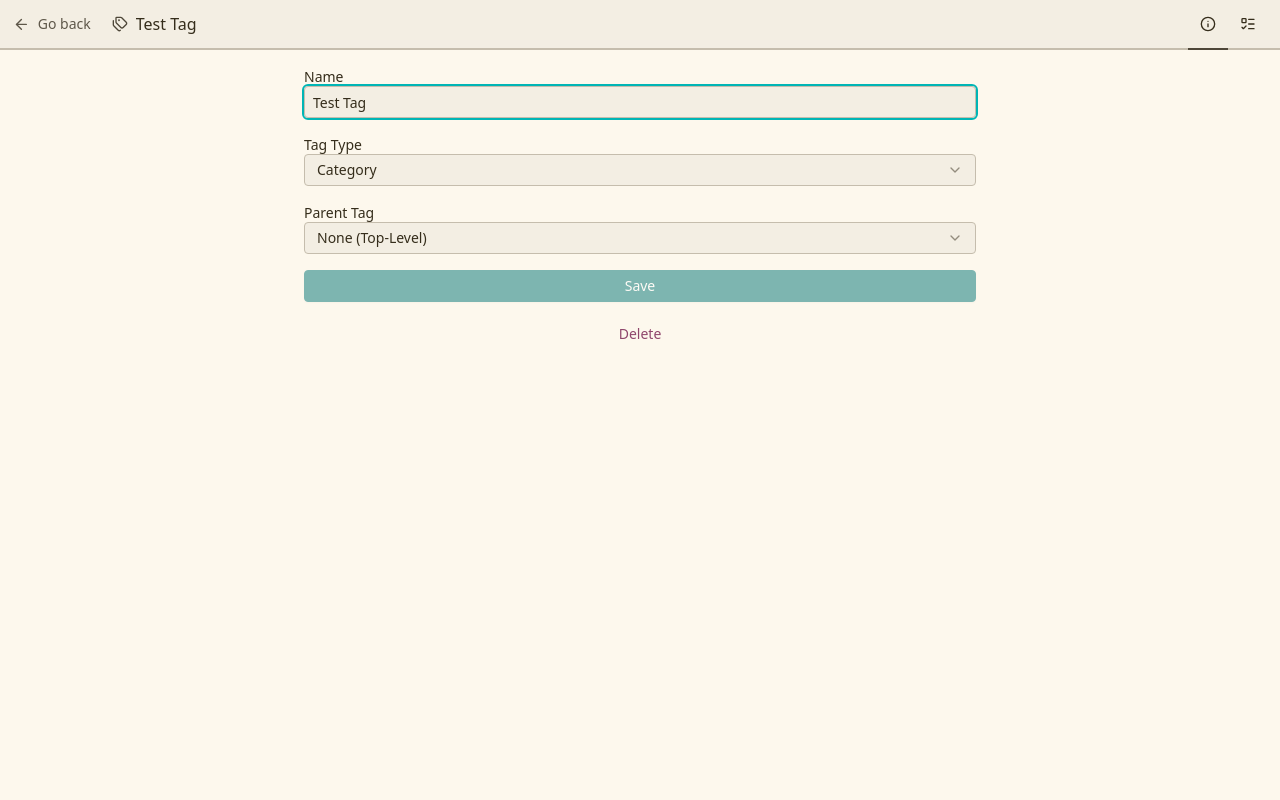
Tag Detail - Info Tab › user can cancel discard and keep changes
The image size is (1280, 800).
Replace the text in the field labelled "Name" with "Changed Name" at coordinates (640, 102), box [304,86,976,118]
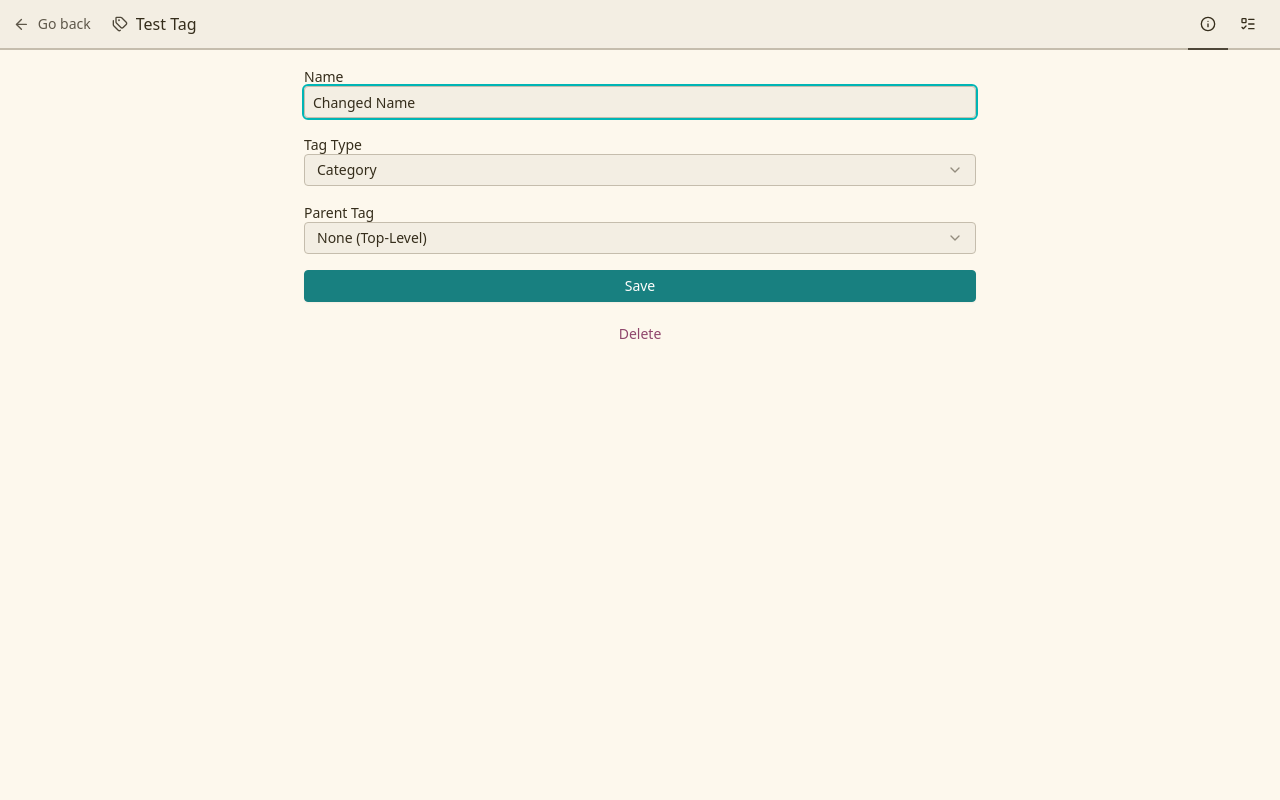
Click the link named "Tag items tab" at coordinates (1248, 25), box [1228,0,1268,50]
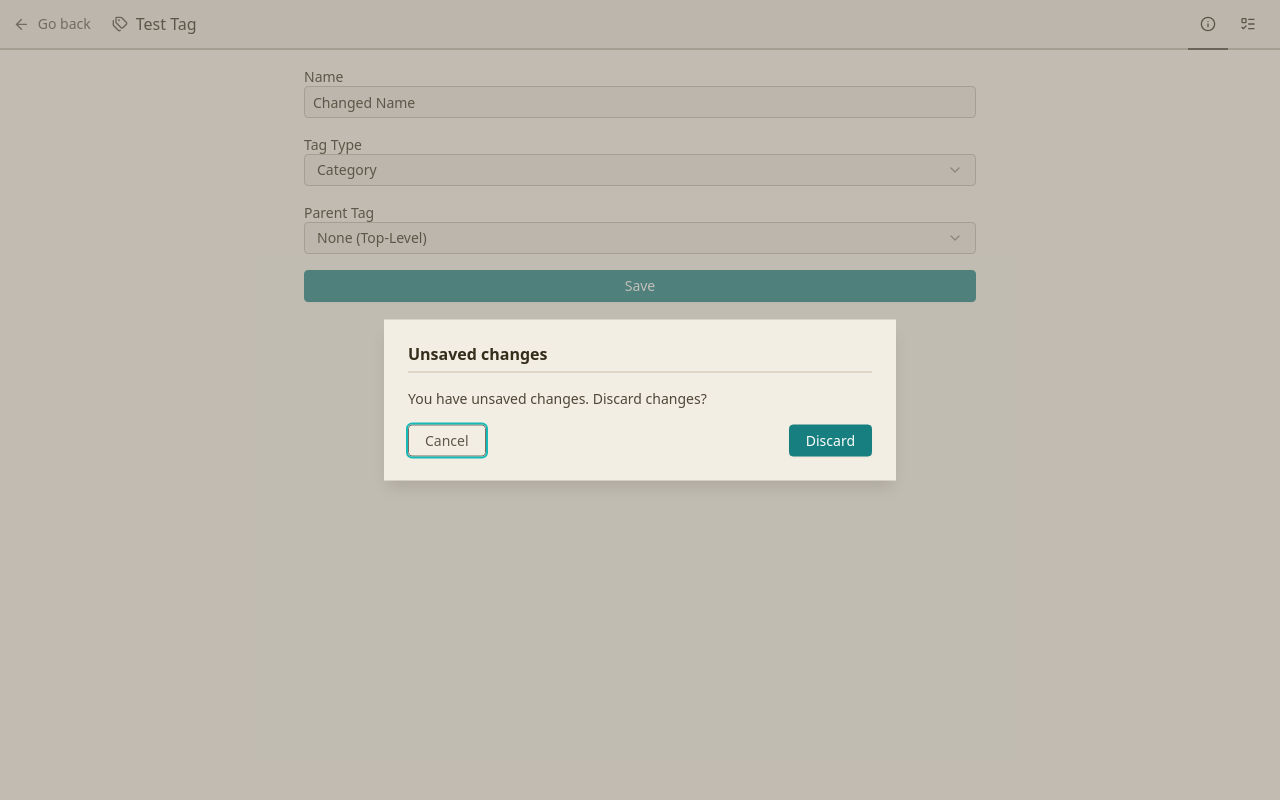
Check: the heading "Unsaved changes" is shown, box [408,342,548,364]
// And clicks Cancel
Click the button "Cancel" at coordinates (447, 440), box [408,424,486,456]
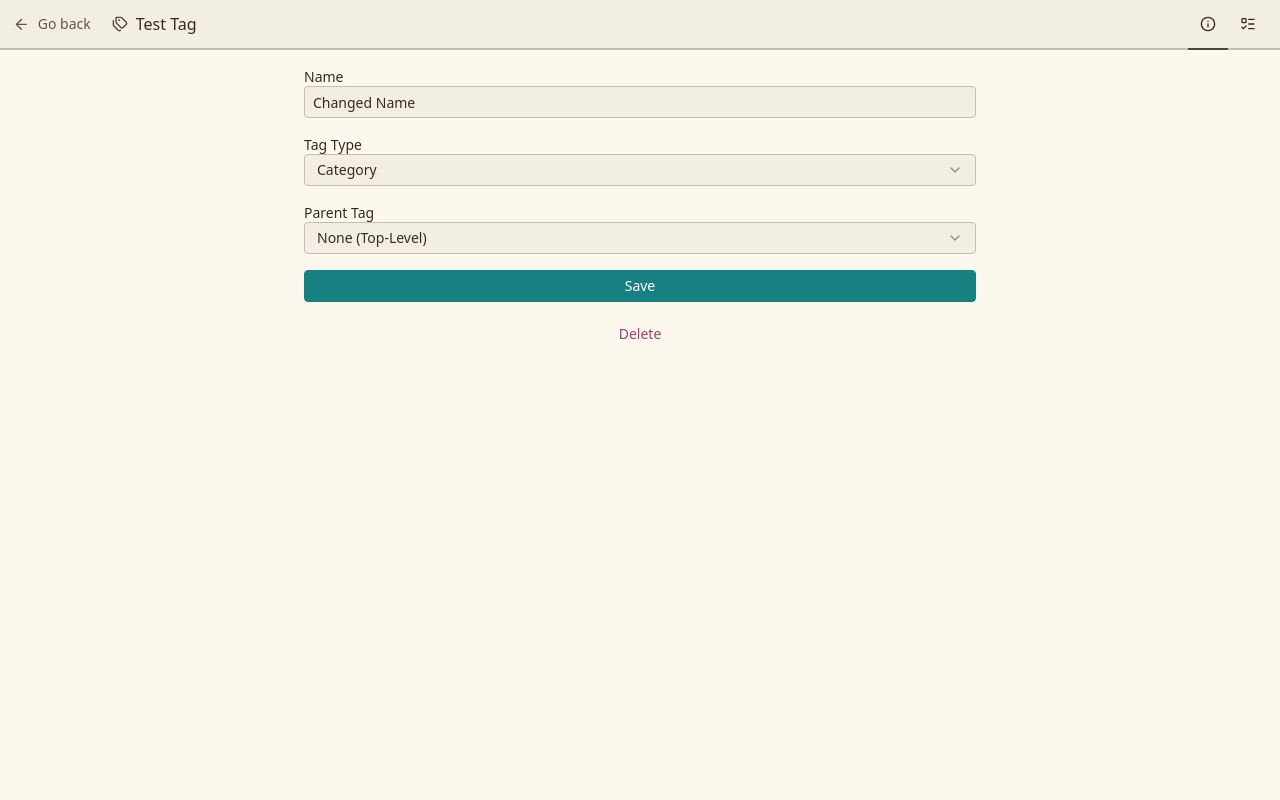
Check: the heading "Unsaved changes" is gone
